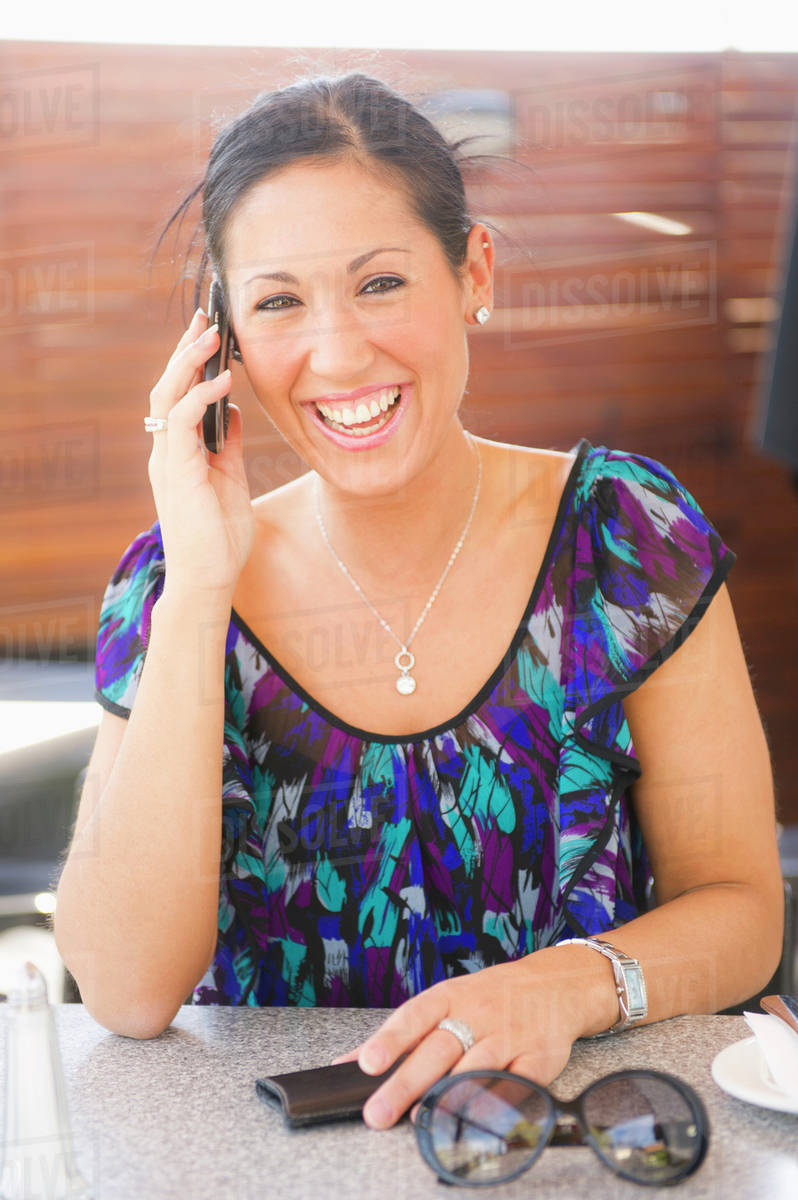phone: (147, 277, 259, 486)
talk: (137, 233, 480, 552)
